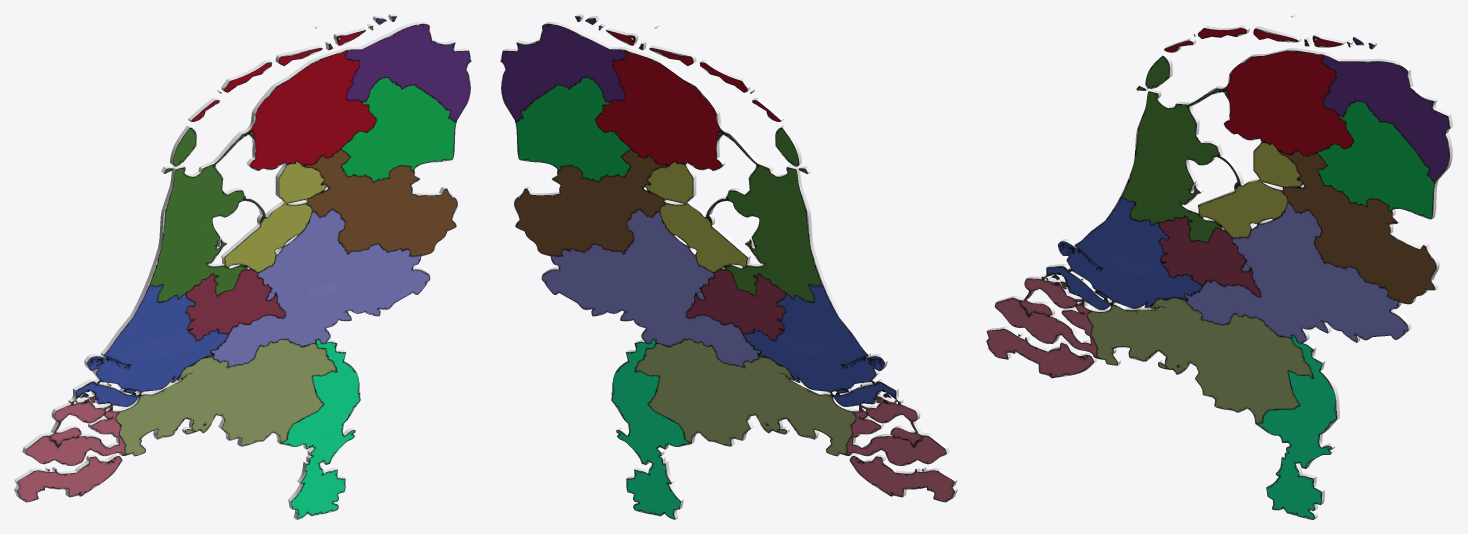
The model's file is prototype 1 base copy.OBJ.
The picture shows the model from 3 angles, left to right: view 1: azimuth 30°, elevation 25°; view 2: azimuth 150°, elevation 25°; view 3: azimuth 330°, elevation 25°; orthographic projection. The views are drawn at different scales.
Bounding box in the file's own units: 983 × 1010 × 10.
3 materials, 3 textured.
